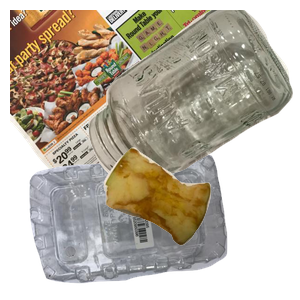glass: (86, 10, 300, 184)
paper: (10, 10, 250, 190)
plastic: (27, 152, 247, 300)
trash: (101, 145, 300, 300)
